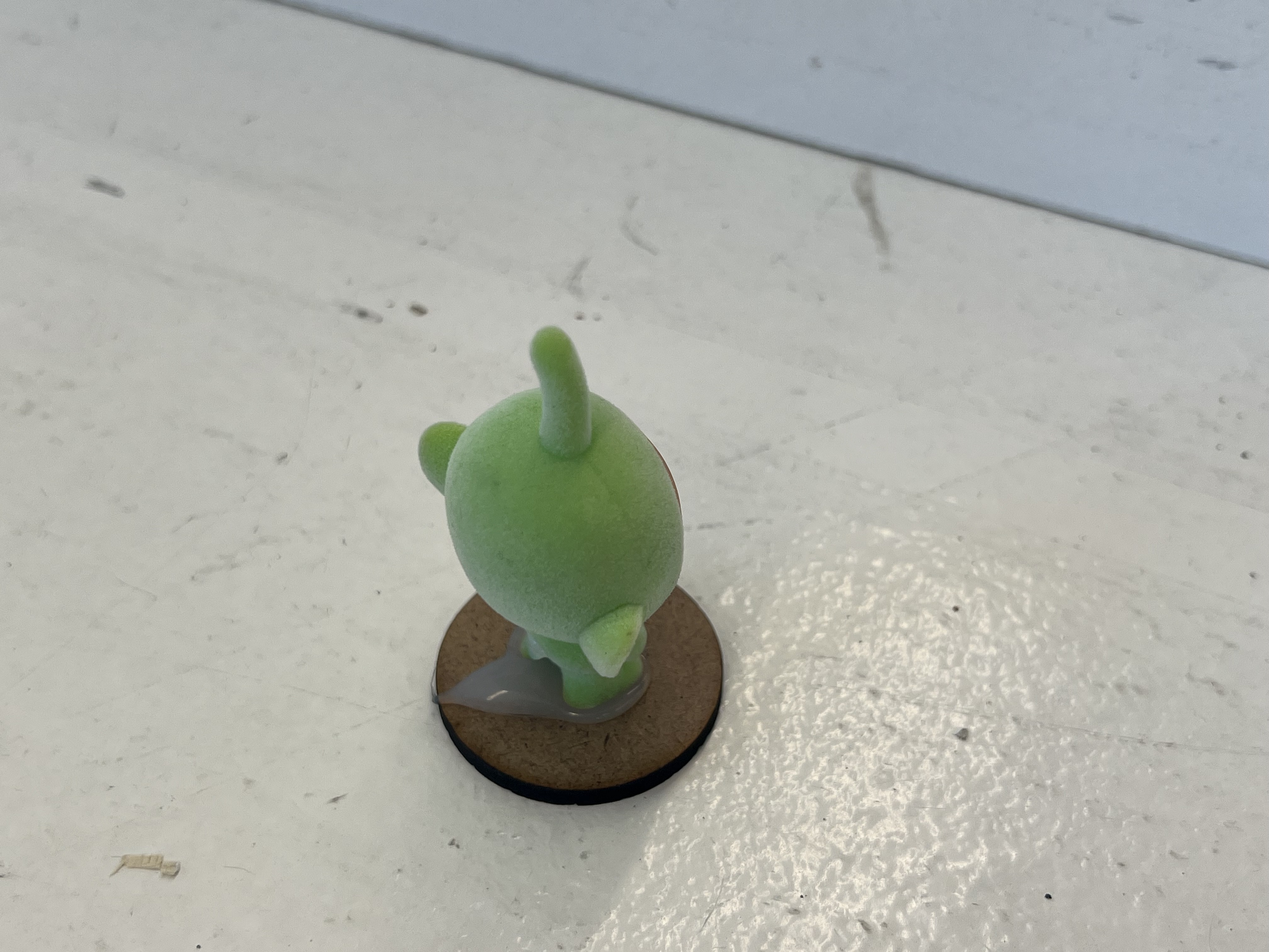teletubby: (419, 326, 684, 709)
